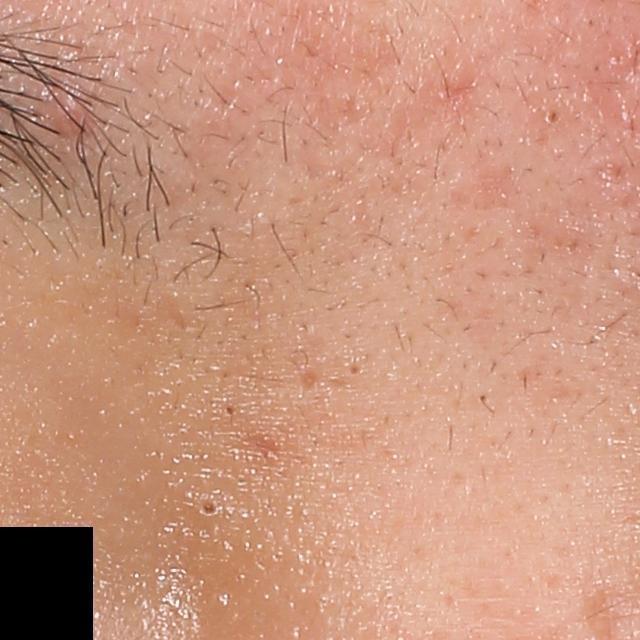atrophic_scar: (298, 368, 318, 394)
comedo: (187, 489, 228, 527), (343, 358, 364, 379), (542, 106, 562, 125)
papule: (49, 77, 98, 134)
